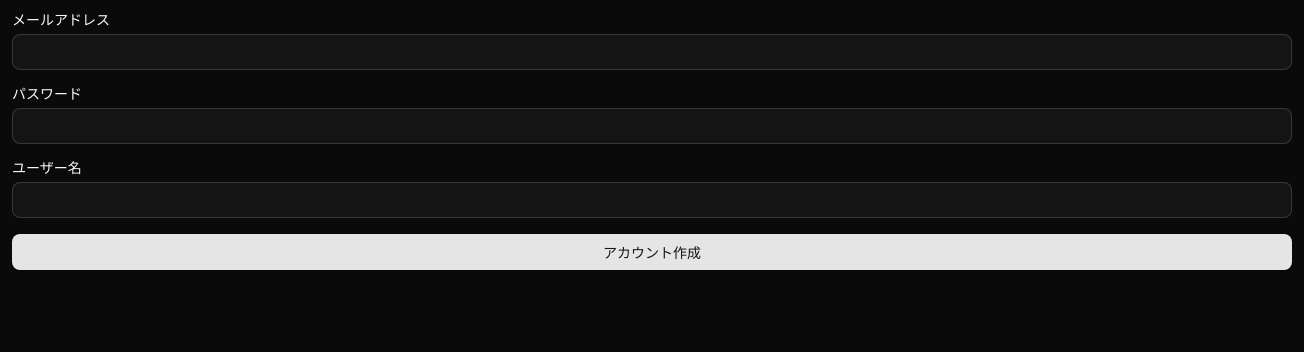
Test case: SignupForm › shows validation error when password lacks uppercase
The image size is (1304, 352).
Type "dj@example.com" into the field labelled "メールアドレス".
click(652, 52); type("dj@example.com")  # box [12,34,1292,70]
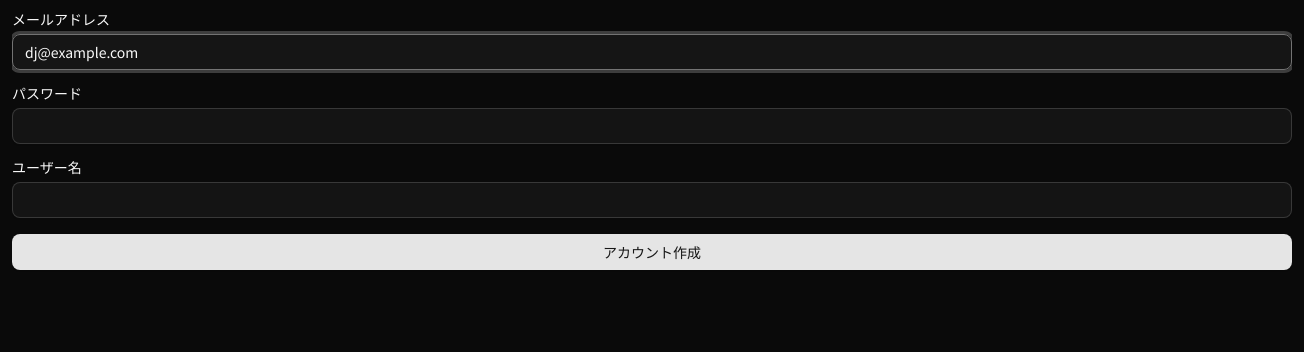
Type "password1" into the password field labelled "パスワード".
click(652, 126); type("password1")  # box [12,108,1292,144]
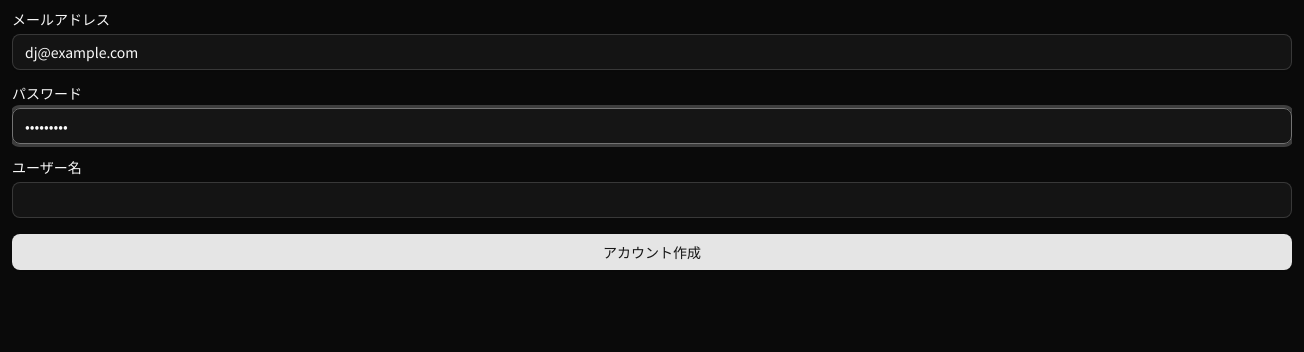
Type "DJName" into the field labelled "ユーザー名".
click(652, 200); type("DJName")  # box [12,182,1292,218]
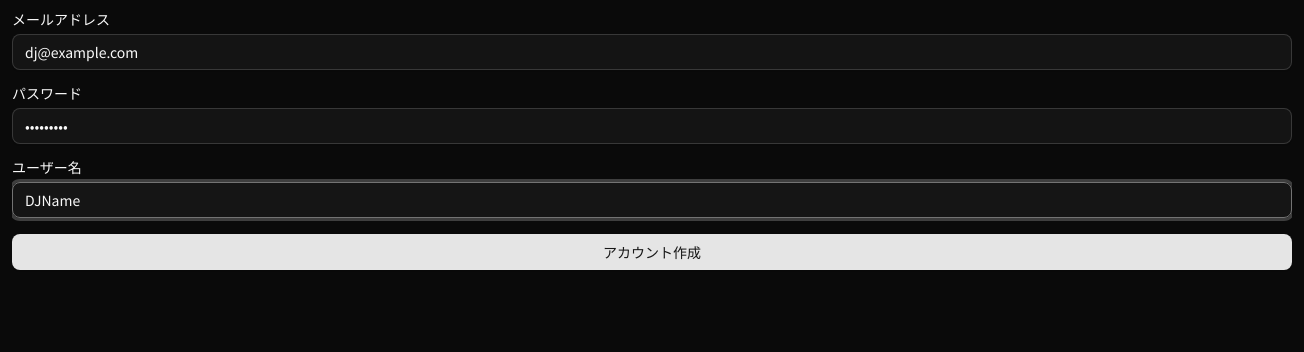
Click the button "アカウント作成".
click(652, 252)  # box [12,234,1292,270]
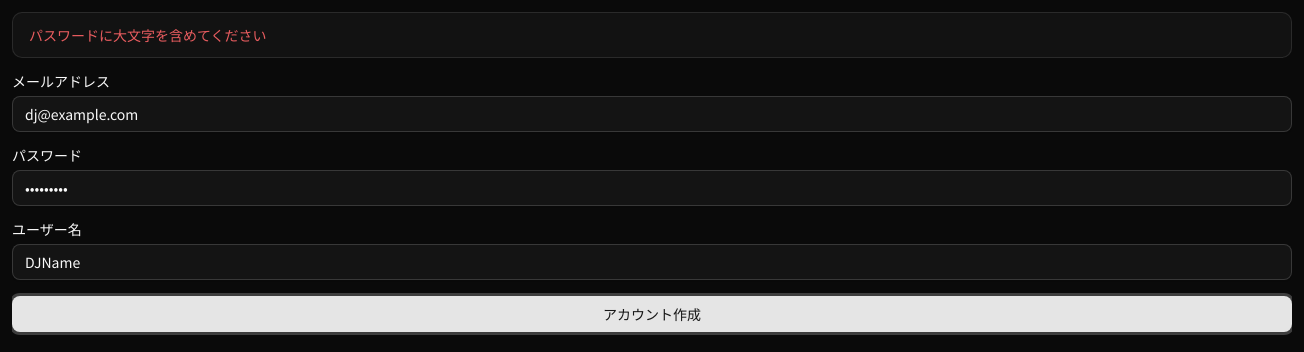
Now the message "パスワードに大文字を含めてください" is shown, box [12,12,1292,58]
